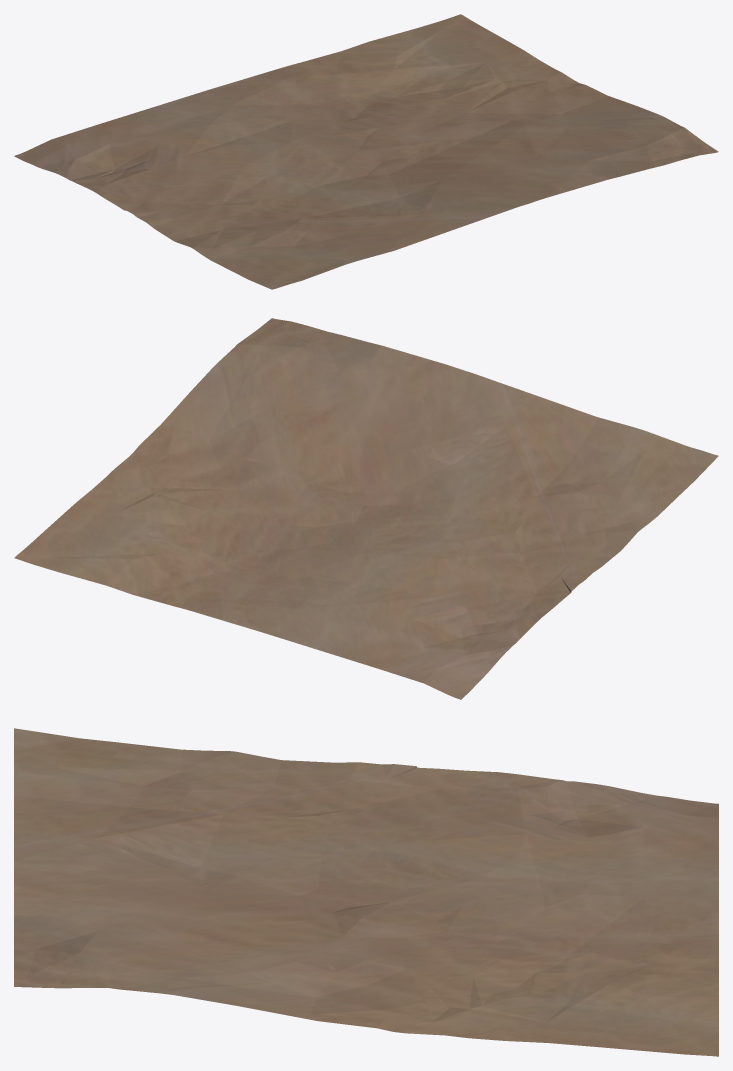
3 views of the same model, one above another, from view 1: azimuth 30°, elevation 25°; view 2: azimuth 150°, elevation 25°; view 3: azimuth 270°, elevation 25° (orthographic). The views are drawn at different scales.
Bounding box in the file's own units: 2.09 × 0.381 × 2.09.
3 materials, 3 textured.
